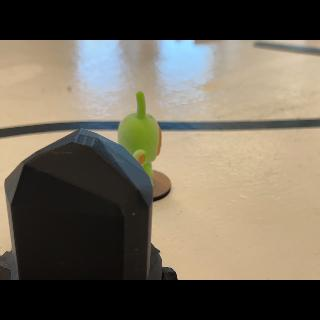teletubby: (118, 91, 162, 182)
